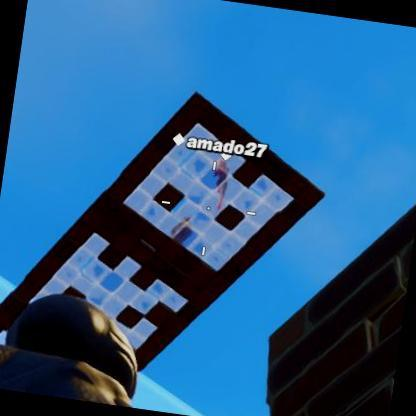person: (211, 152, 234, 218)
